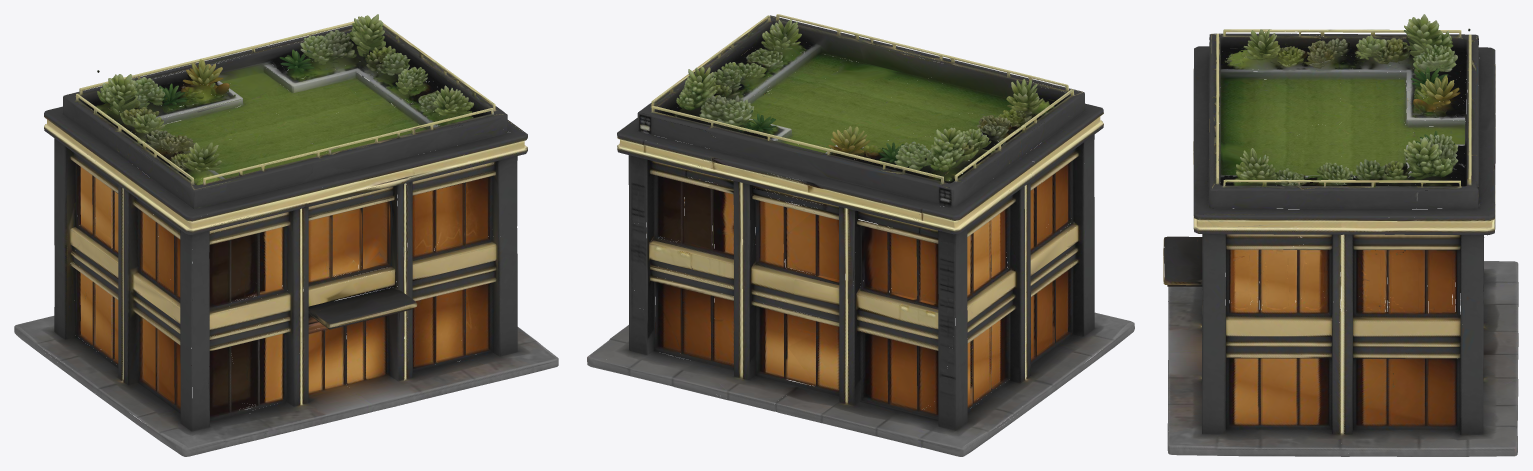
Rendered from garden-roof-retail-detail.glb.
The picture shows the model from 3 angles, left to right: view 1: azimuth 30°, elevation 25°; view 2: azimuth 150°, elevation 25°; view 3: azimuth 270°, elevation 25°; orthographic projection. The views are drawn at different scales.
Visible parts, largest first — view 1: HI3D | Garden Roof Retail.001; view 2: HI3D | Garden Roof Retail.001; view 3: HI3D | Garden Roof Retail.001.
Boxes of the visible parts, bbox=[...] form: HI3D | Garden Roof Retail.001: bbox=[14, 14, 558, 456]; HI3D | Garden Roof Retail.001: bbox=[587, 14, 1134, 456]; HI3D | Garden Roof Retail.001: bbox=[1163, 14, 1518, 456].
Bounding box in the file's own units: 1.44 × 1 × 1.14.
1 material, 1 textured.
